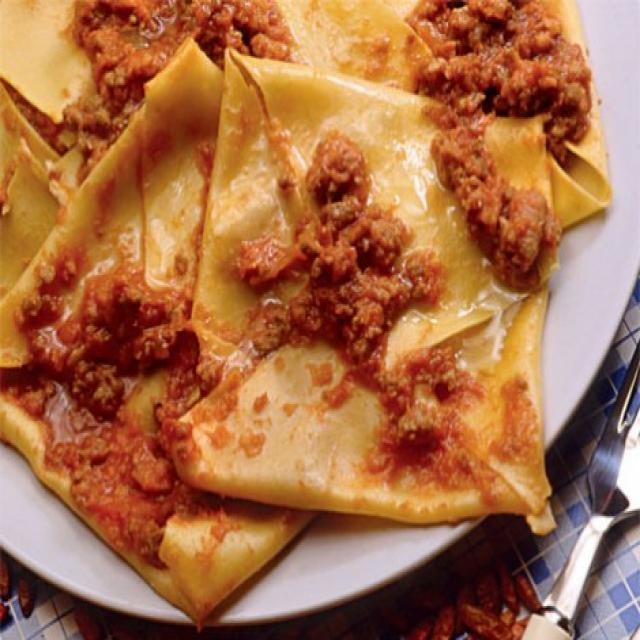Pasta al ragu: (14, 15, 605, 577)
